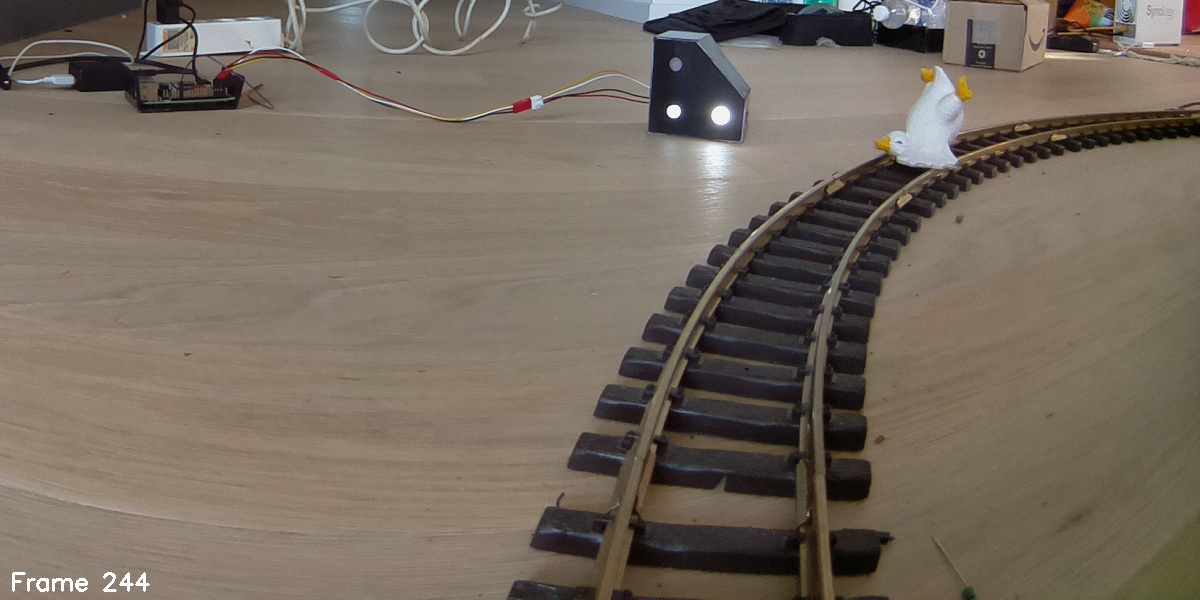Ente: (876, 64, 974, 175)
Halt: (647, 31, 747, 143)
